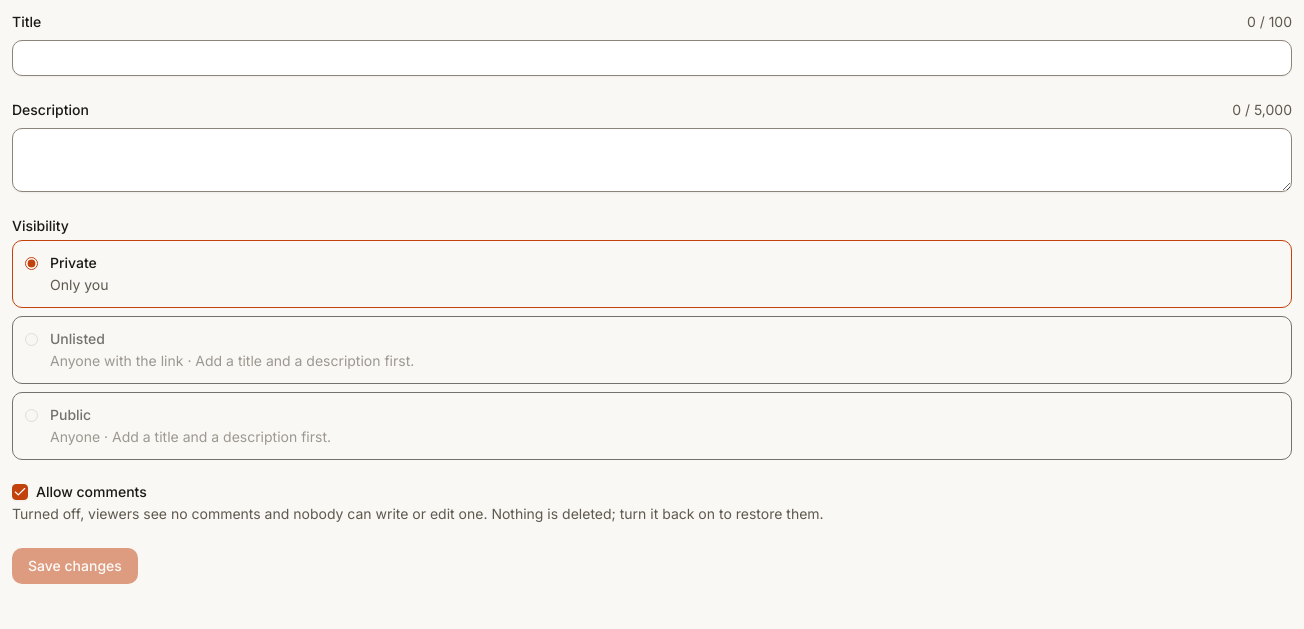
Test: EditVideoForm › puts the API's refusal on its field and keeps the form dirty
Type "Holiday" into the field labelled "Title" at (652, 58), box [12,40,1292,76]
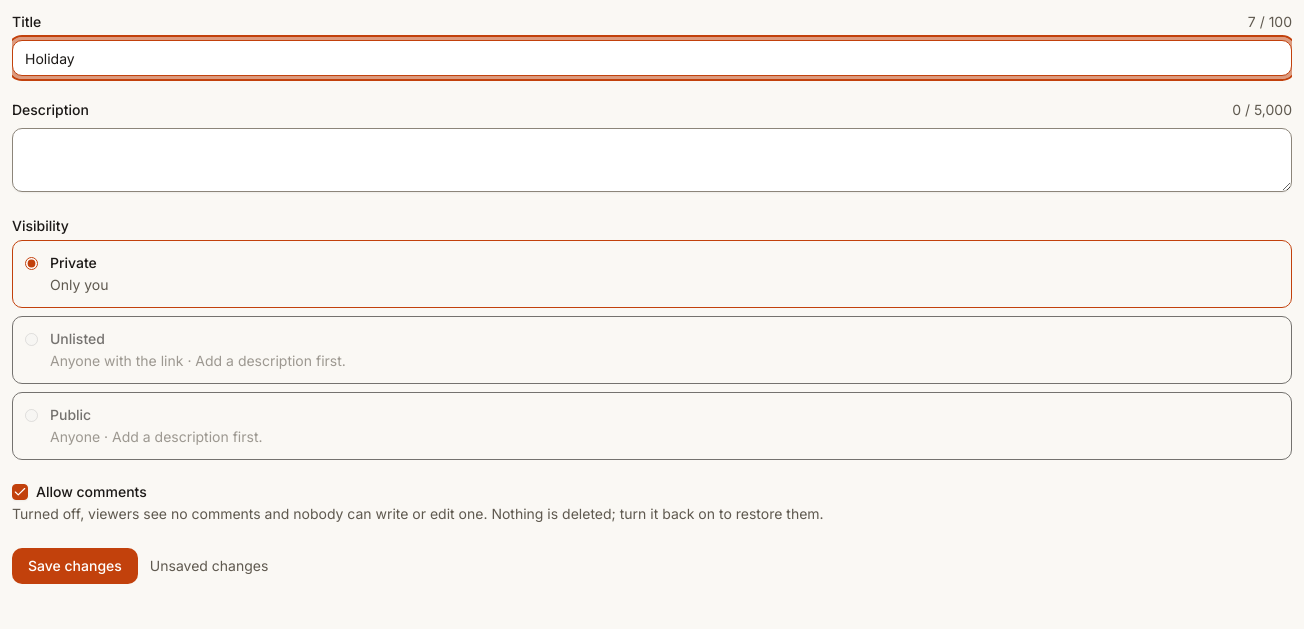
Click the button "Save changes" at (75, 566), box [12,548,138,584]
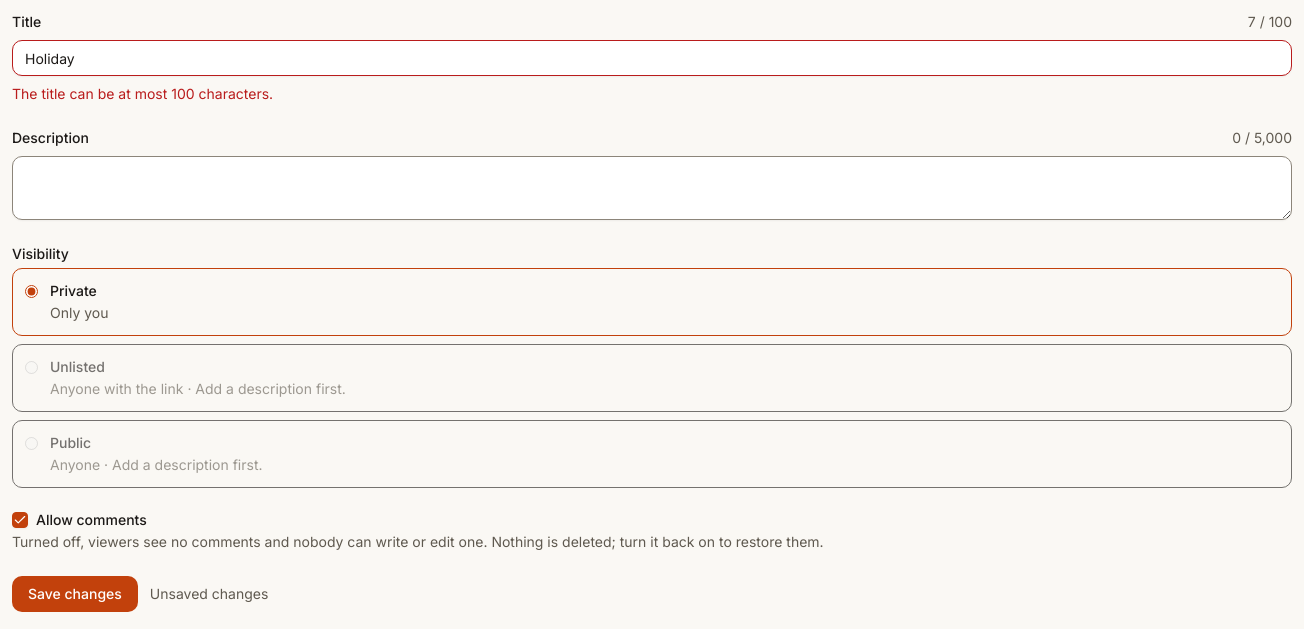
Result: the message "The title can be at most 100 characters." is shown at [12,85,273,102]
